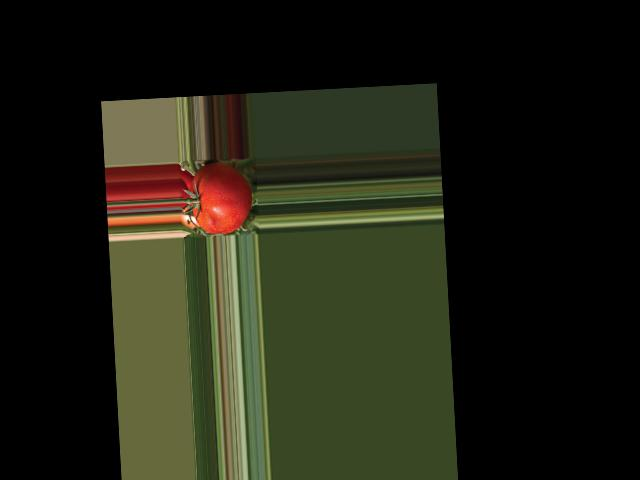tomato: (188, 161, 253, 235)
